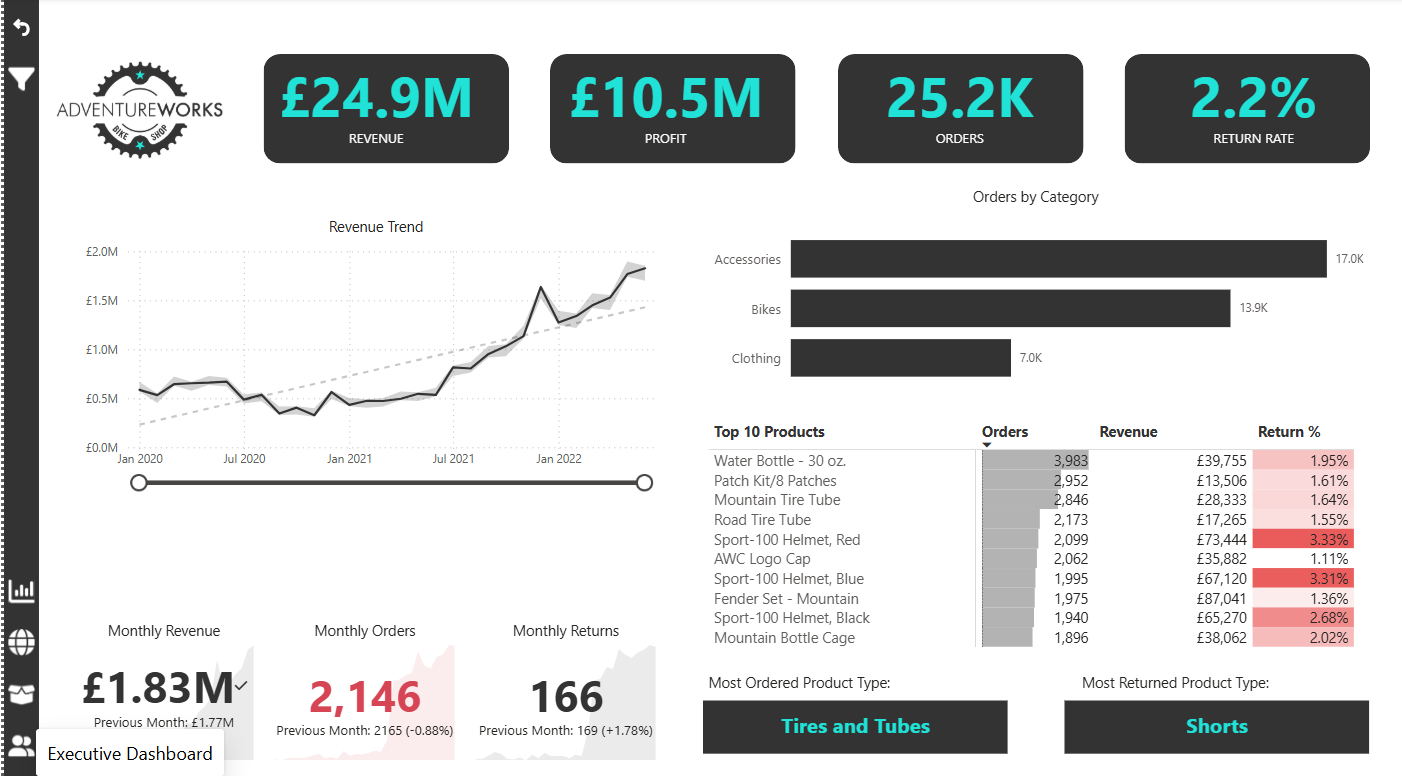

The page's visual inventory and layout, read from the dashboard file:
{"tool":"powerbi","page":{"name":"Executive Dashboard","canvas":[1280,720],"ordinal":0},"visuals":[{"type":"card","fields":{"Values":["Measure Table.Total Profit"]},"box":[498,34.9,214,123.6],"z":0,"group":"g2"},{"type":"group","id":"g1","title":"KPI Background","box":[237.4,52.7,1012.5,100.5],"z":0,"group":"g3"},{"type":"shape","box":[237.4,52.7,224.8,100.3],"z":0,"group":"g1"},{"type":"image","title":"AW Logo","box":[32.2,52.8,186.3,100.3],"z":0},{"type":"actionButton","box":[0,525.7,32.2,35.8],"z":0,"group":"g4"},{"type":"shape","title":"Left Nav Background","box":[0,0,32.2,720],"z":1000},{"type":"group","id":"g2","title":"KPI Values","box":[233.5,34.9,1016.7,123.6],"z":1000,"group":"g3"},{"type":"card","fields":{"Values":["Measure Table.Total Orders"]},"box":[767.1,34.9,214,123.6],"z":1000,"group":"g2"},{"type":"shape","box":[500,52.7,224.8,100.3],"z":1000,"group":"g1"},{"type":"actionButton","box":[0,572.9,32.2,35.8],"z":1000,"group":"g4"},{"type":"group","id":"g3","title":"KPIs","box":[233.5,34.9,1016.7,123.6],"z":2000},{"type":"card","fields":{"Values":["Measure Table.Return Rate"]},"box":[1036.2,34.9,214,123.6],"z":2000,"group":"g2"},{"type":"shape","box":[762.5,52.7,224.8,100.3],"z":2000,"group":"g1"},{"type":"actionButton","box":[0,620,32.2,35.8],"z":2000,"group":"g4"},{"type":"card","fields":{"Values":["Measure Table.Total Revenue"]},"box":[233.5,34.9,214,123.6],"z":3000,"group":"g2"},{"type":"shape","box":[1025.1,52.9,224.8,100.3],"z":3000,"group":"g1"},{"type":"lineChart","title":"Revenue Trend","fields":{"Category":["Calendar Lookup.Start of Month"],"Y":["Measure Table.Total Revenue"]},"box":[69,199.7,543.6,255.2],"z":3000},{"type":"actionButton","box":[0,667.2,32.2,35.8],"z":3000,"group":"g4"},{"type":"kpi","title":"Monthly Revenue","fields":{"Goal":["Measure Table.Previous Month revenue"],"Indicator":["Measure Table.Total Revenue"],"TrendLine":["Calendar Lookup.Start of Month"]},"box":[58.3,569.8,174.6,133.4],"z":4000},{"type":"kpi","title":"Monthly Returns","fields":{"Goal":["Measure Table.Previous Month Returns"],"Indicator":["Measure Table.Total Returns"],"TrendLine":["Calendar Lookup.Start of Month"]},"box":[427.3,569.8,174.6,133.4],"z":5000},{"type":"kpi","title":"Monthly Orders","fields":{"Goal":["Measure Table.Previous Month Orders"],"Indicator":["Measure Table.Total Orders"],"TrendLine":["Calendar Lookup.Start of Month"]},"box":[242.8,569.8,174.6,133.4],"z":6000},{"type":"clusteredBarChart","title":"Orders by Category","fields":{"Category":["Product Categories Lookup.CategoryName"],"Y":["Measure Table.Total Orders"]},"box":[640,172.7,608.9,199.1],"z":7000},{"type":"pivotTable","fields":{"Rows":["Product Lookup.ProductName"],"Values":["Measure Table.Total Orders","Measure Table.Total Revenue","Measure Table.Return Rate"]},"box":[640,383.3,608.9,229.1],"z":8000},{"type":"card","fields":{"Values":["Min(Product Subcategories Lookup.SubcategoryName)"]},"box":[640,643.5,278.6,48.3],"z":9000},{"type":"textbox","box":[640,612.4,193.4,48.3],"z":10000},{"type":"card","fields":{"Values":["Min(Product Subcategories Lookup.SubcategoryName)"]},"box":[970.4,643.5,278.6,48.3],"z":11000},{"type":"textbox","box":[980.7,612.4,193.4,48.3],"z":12000},{"type":"actionButton","box":[3.6,9,24.2,35.8],"z":13000},{"type":"group","id":"g4","title":"Navigation Buttons","box":[0,525.7,32.2,177.3],"z":14000},{"type":"actionButton","box":[0,54.4,32.3,40.3],"z":15000}]}

Visuals, with their boxes on the page's 1280x720 design canvas (x1, y1, x2, y2). These are canvas units, not pixel positions in the 1402x776 screenshot, which may show the page scaled, cropped or inside an application window:
card - Measure Table.Total Profit: crop(498, 35, 712, 158)
"KPI Background" group: crop(237, 53, 1250, 153)
shape: crop(237, 53, 462, 153)
"AW Logo" image: crop(32, 53, 218, 153)
actionButton: crop(0, 526, 32, 562)
"Left Nav Background" shape: crop(0, 0, 32, 720)
"KPI Values" group: crop(234, 35, 1250, 158)
card - Measure Table.Total Orders: crop(767, 35, 981, 158)
shape: crop(500, 53, 725, 153)
actionButton: crop(0, 573, 32, 609)
"KPIs" group: crop(234, 35, 1250, 158)
card - Measure Table.Return Rate: crop(1036, 35, 1250, 158)
shape: crop(762, 53, 987, 153)
actionButton: crop(0, 620, 32, 656)
card - Measure Table.Total Revenue: crop(234, 35, 448, 158)
shape: crop(1025, 53, 1250, 153)
"Revenue Trend" lineChart: crop(69, 200, 613, 455)
actionButton: crop(0, 667, 32, 703)
"Monthly Revenue" kpi: crop(58, 570, 233, 703)
"Monthly Returns" kpi: crop(427, 570, 602, 703)
"Monthly Orders" kpi: crop(243, 570, 417, 703)
"Orders by Category" clusteredBarChart: crop(640, 173, 1249, 372)
pivotTable - Product Lookup.ProductName x Measure Table.Total Orders: crop(640, 383, 1249, 612)
card - Min(Product Subcategories Lookup.SubcategoryName): crop(640, 644, 919, 692)
textbox: crop(640, 612, 833, 661)
card - Min(Product Subcategories Lookup.SubcategoryName): crop(970, 644, 1249, 692)
textbox: crop(981, 612, 1174, 661)
actionButton: crop(4, 9, 28, 45)
"Navigation Buttons" group: crop(0, 526, 32, 703)
actionButton: crop(0, 54, 32, 95)
